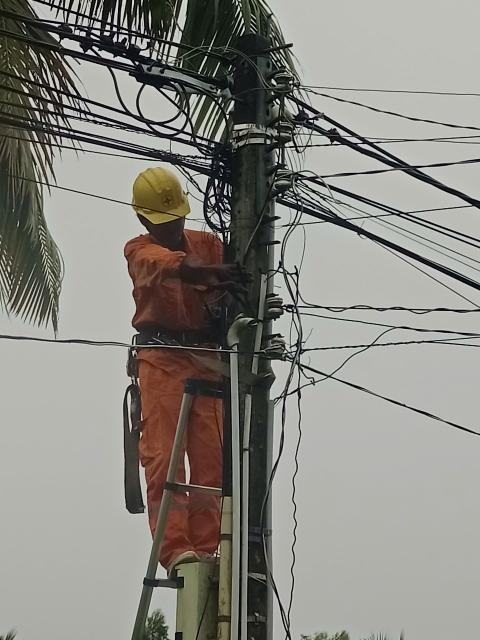gloves: (172, 248, 256, 303)
harness: (102, 315, 254, 363)
helmet: (96, 162, 213, 227)
shoes: (145, 543, 203, 579), (199, 541, 237, 574)
